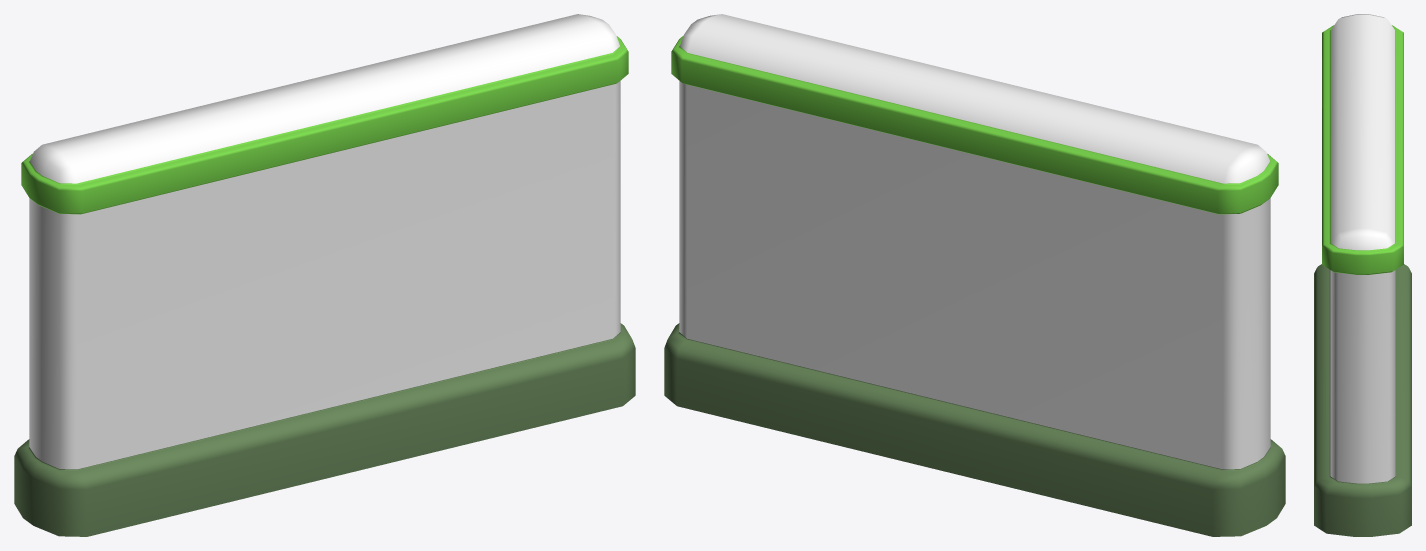
Rendered from Env1_Wall.fbx.
The picture shows the model from 3 angles, left to right: view 1: azimuth 30°, elevation 25°; view 2: azimuth 150°, elevation 25°; view 3: azimuth 270°, elevation 25°; orthographic projection. The views are drawn at different scales.
Parts seen in each view (by area): view 1: Env1_Wall; view 2: Env1_Wall; view 3: Env1_Wall.
Part boxes in pixels (left/top/right/bottom): Env1_Wall: left=14, top=14, right=635, bottom=536; Env1_Wall: left=664, top=14, right=1285, bottom=536; Env1_Wall: left=1314, top=14, right=1411, bottom=536.
Bounding box in the file's own units: 332 × 195 × 58.24.
